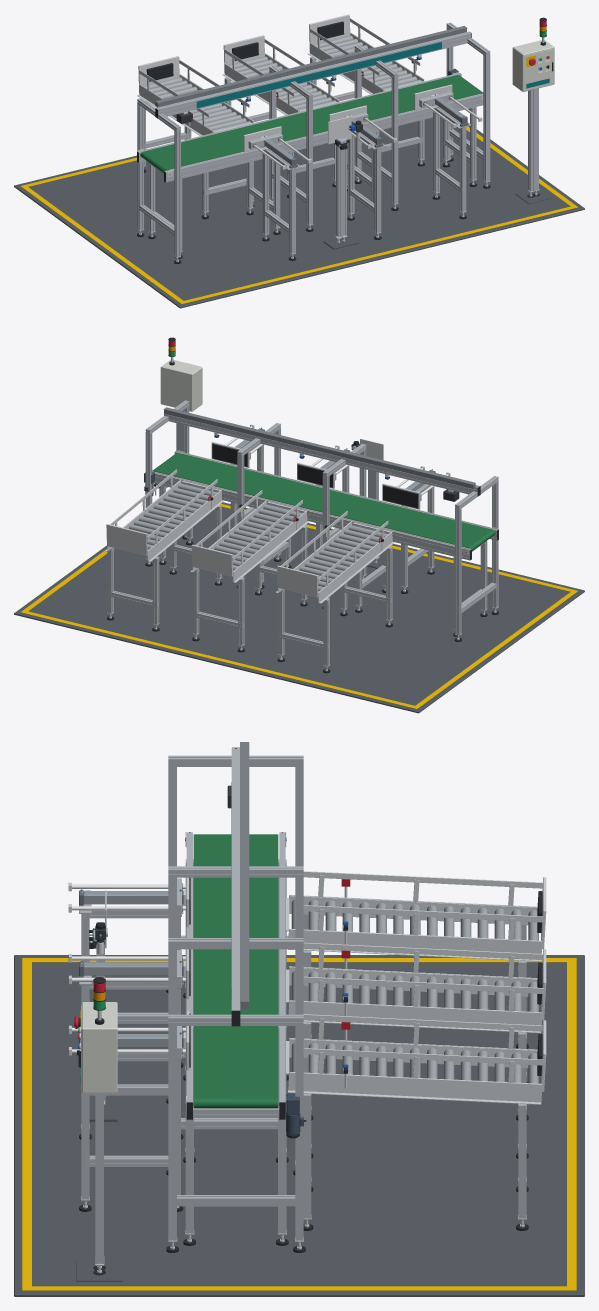
Rendered from diverter.glb.
3 renders of one model, top to bottom at view 1: azimuth 30°, elevation 25°; view 2: azimuth 150°, elevation 25°; view 3: azimuth 270°, elevation 25°, orthographic. The views are drawn at different scales.
Parts seen in each view (by area): view 1: static_base, static_alu, static_inox, belt_main, static_roller, static_warn, static_duct, static_black, static_accent, static_cabinet, static_cylbody, cyl_1A_rod (+3 smaller); view 2: static_base, static_alu, static_inox, belt_main, static_roller, static_warn, static_duct, static_cabinet, static_black, cyl_1A_rod, cyl_3A_rod, cyl_2A_rod; view 3: static_base, static_alu, static_inox, belt_main, static_roller, static_warn, static_cabinet, static_cylbody, static_duct, static_black, cyl_1A_rod, cyl_2A_rod (+1 smaller).
Part boxes in pixels (box(x1,y1,x2,y2)): static_base: box(14, 117, 584, 308); static_alu: box(137, 22, 539, 258); static_inox: box(137, 14, 483, 177); belt_main: box(140, 75, 482, 173); static_roller: box(143, 35, 421, 175); static_warn: box(21, 55, 578, 303); static_duct: box(155, 26, 466, 107); static_black: box(137, 17, 553, 263); static_accent: box(196, 42, 549, 108); static_cabinet: box(512, 40, 554, 91); static_cylbody: box(264, 97, 465, 163); cyl_1A_rod: box(243, 126, 311, 169); static_base: box(14, 502, 584, 713); static_alu: box(107, 400, 498, 667); static_inox: box(105, 432, 497, 603); belt_main: box(152, 452, 495, 550); static_roller: box(126, 483, 466, 591); static_warn: box(21, 504, 577, 708); static_duct: box(164, 407, 475, 488); static_cabinet: box(160, 359, 202, 411); static_black: box(107, 337, 498, 673); cyl_1A_rod: box(382, 466, 450, 509); cyl_3A_rod: box(211, 424, 263, 467); cyl_2A_rod: box(297, 445, 348, 488); static_base: box(14, 955, 584, 1296); static_alu: box(79, 748, 526, 1265); static_inox: box(97, 832, 546, 1110); belt_main: box(193, 834, 278, 1108); static_roller: box(185, 837, 538, 1104); static_warn: box(22, 958, 576, 1290); static_cabinet: box(81, 1002, 117, 1092); static_cylbody: box(84, 891, 168, 1047); static_duct: box(240, 742, 249, 1008); static_black: box(77, 747, 542, 1275); cyl_1A_rod: box(68, 877, 190, 927); cyl_2A_rod: box(68, 949, 190, 998).
Size of the model in its own units: 3.8 by 1.58 by 2.7.
